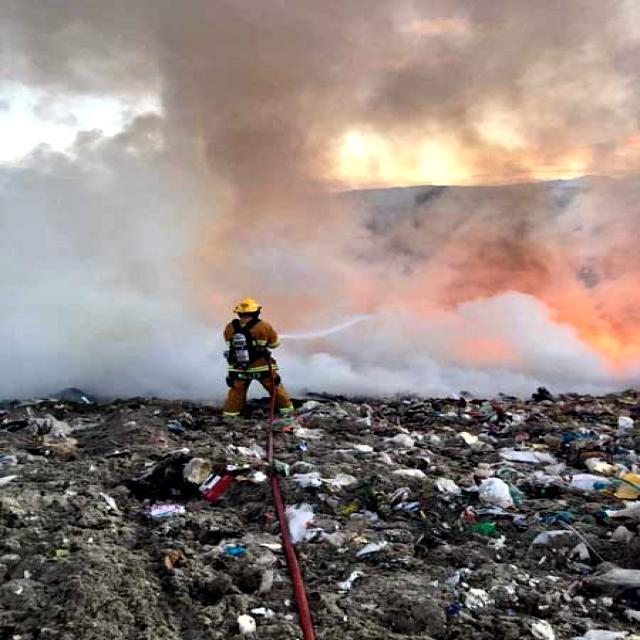Smoke: (0, 0, 626, 399)
